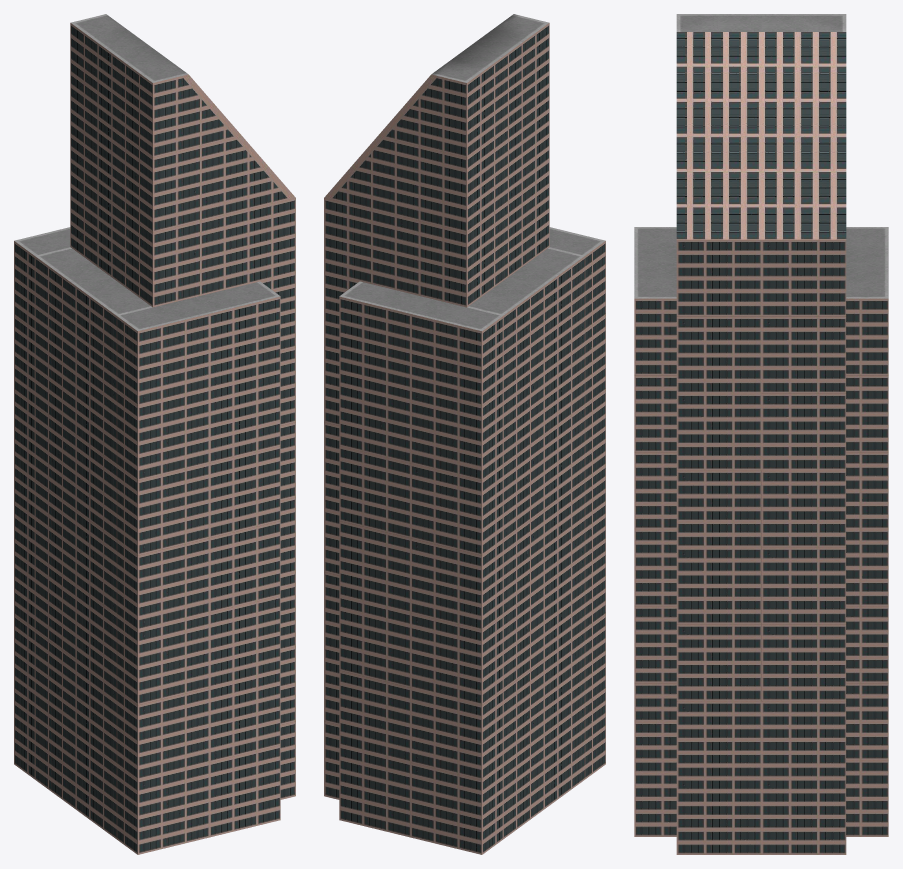
The model's file is Building_Slope_top.FBX.
3 renders of one model, left to right at view 1: azimuth 30°, elevation 25°; view 2: azimuth 150°, elevation 25°; view 3: azimuth 270°, elevation 25°, orthographic. The views are drawn at different scales.
Visible parts, largest first — view 1: Building_squareSlopetop; view 2: Building_squareSlopetop; view 3: Building_squareSlopetop.
Boxes of the visible parts, <box> form: Building_squareSlopetop: <box>14,14,295,854</box>; Building_squareSlopetop: <box>324,14,605,854</box>; Building_squareSlopetop: <box>634,14,888,854</box>.
Bounding box in the file's own units: 67.69 × 271 × 81.23.
